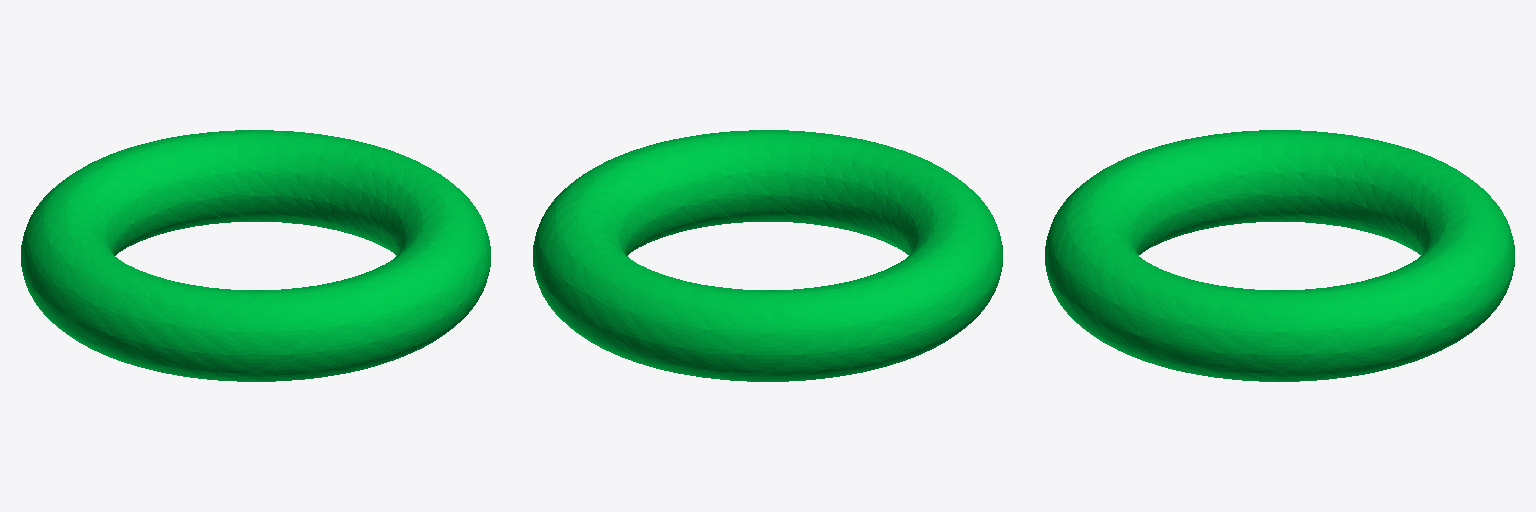
The model's file is purple_donut-hipoly.obj.
The picture shows the model from 3 angles: view 1: azimuth 30°, elevation 25°; view 2: azimuth 150°, elevation 25°; view 3: azimuth 270°, elevation 25°; orthographic projection.
Parts seen in each view (by area): view 1: Torus; view 2: Torus; view 3: Torus.
Boxes of the visible parts, x1,y1,x2,y2 form: Torus: [21, 130, 490, 381]; Torus: [533, 130, 1002, 381]; Torus: [1045, 130, 1514, 381].
Bounding box in the file's own units: 2.48 × 0.4853 × 2.48.